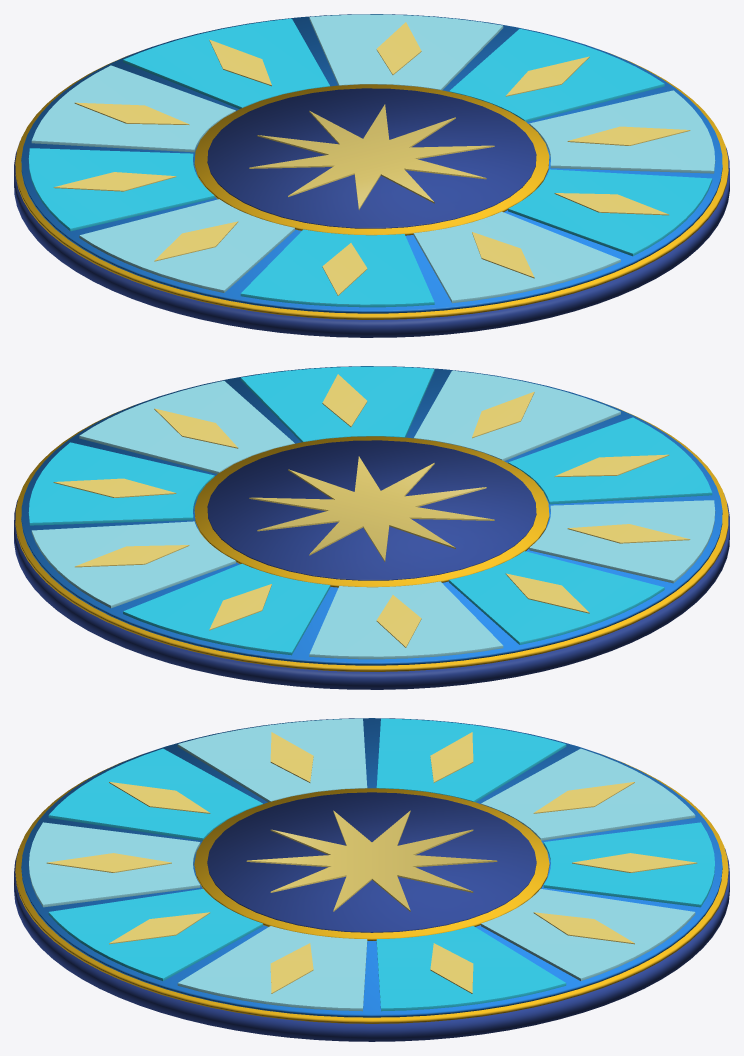
The model's file is HubMedallion.fbx.
3 views of the same model, one above another, from view 1: azimuth 30°, elevation 25°; view 2: azimuth 150°, elevation 25°; view 3: azimuth 270°, elevation 25° (orthographic).
Visible parts, largest first — view 1: HubMedallion; view 2: HubMedallion; view 3: HubMedallion.
Boxes of the visible parts, bbox=[...] form: HubMedallion: bbox=[14, 14, 729, 337]; HubMedallion: bbox=[14, 366, 729, 689]; HubMedallion: bbox=[14, 718, 729, 1041].
Bounding box in the file's own units: 24 × 1.11 × 24.
Materials: 1 (1 with a texture image).
